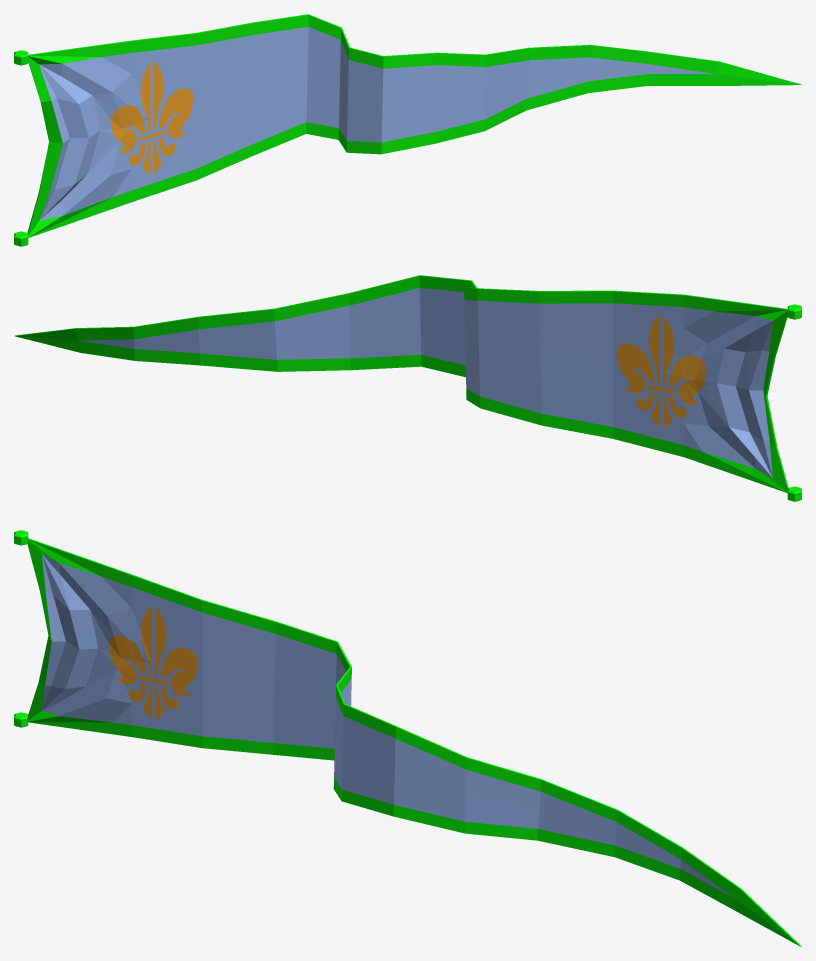
File: SM_Flag_Triangle_C_Fantasy.fbx
3 views of the same model, one above another, from view 1: azimuth 30°, elevation 25°; view 2: azimuth 150°, elevation 25°; view 3: azimuth 330°, elevation 25° (orthographic).
Visible parts, largest first — view 1: flag-triangle-c-fantasy; view 2: flag-triangle-c-fantasy; view 3: flag-triangle-c-fantasy.
Boxes of the visible parts, left/top/right/bottom form: flag-triangle-c-fantasy: left=14, top=14, right=801, bottom=246; flag-triangle-c-fantasy: left=14, top=275, right=801, bottom=501; flag-triangle-c-fantasy: left=14, top=530, right=801, bottom=946.
Size of the model in its own units: 4.89 by 1.31 by 0.3947.
